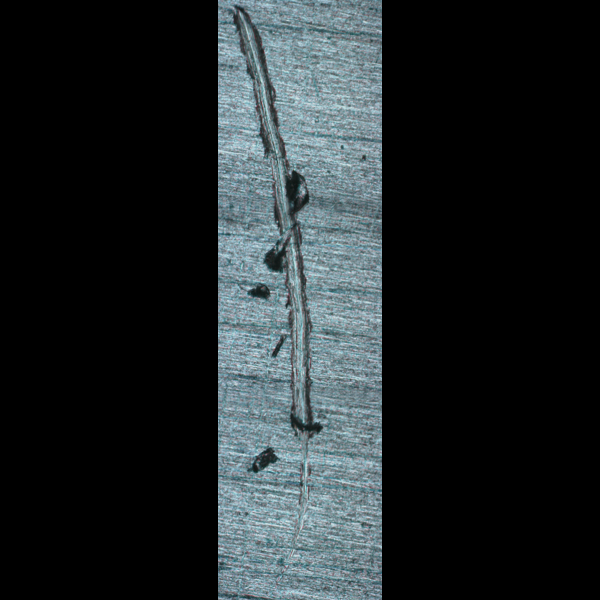d: (227, 3, 326, 584)
